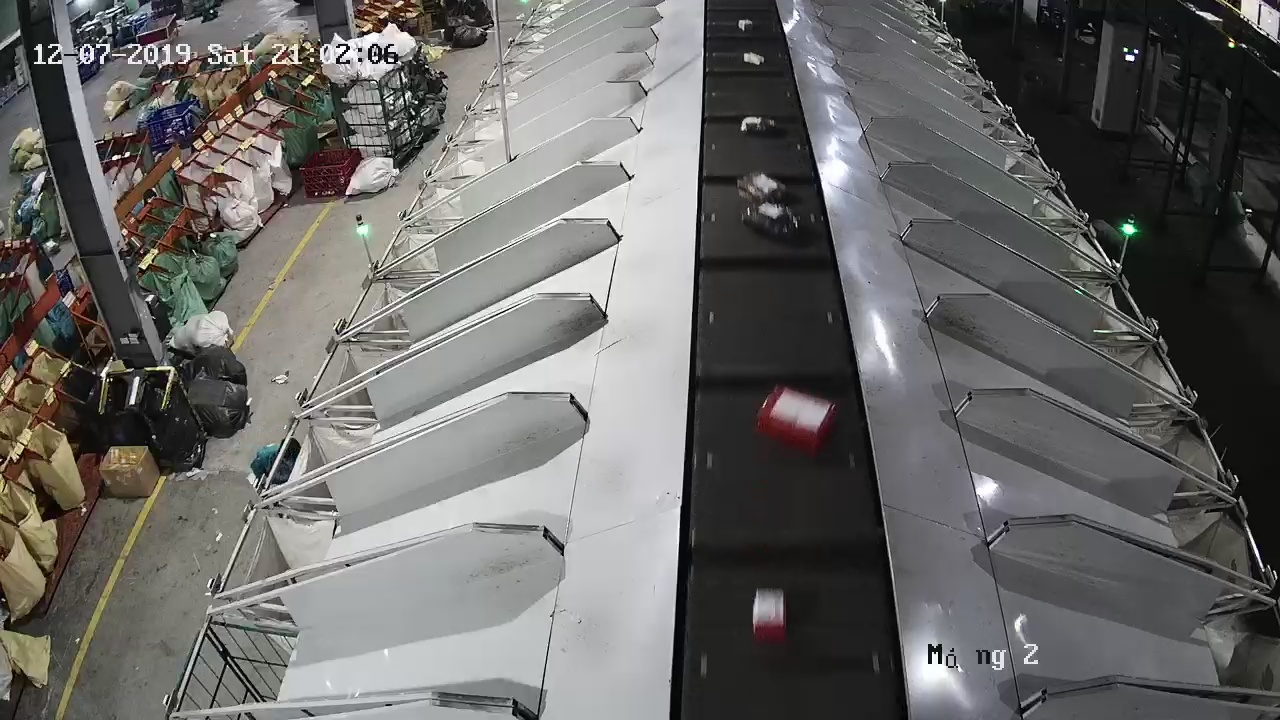parcel: (755, 382, 838, 457)
